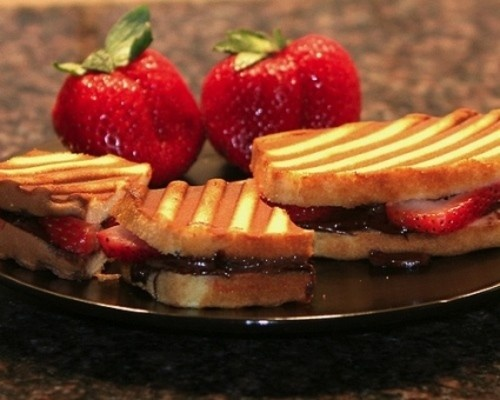background: (0, 2, 391, 192)
